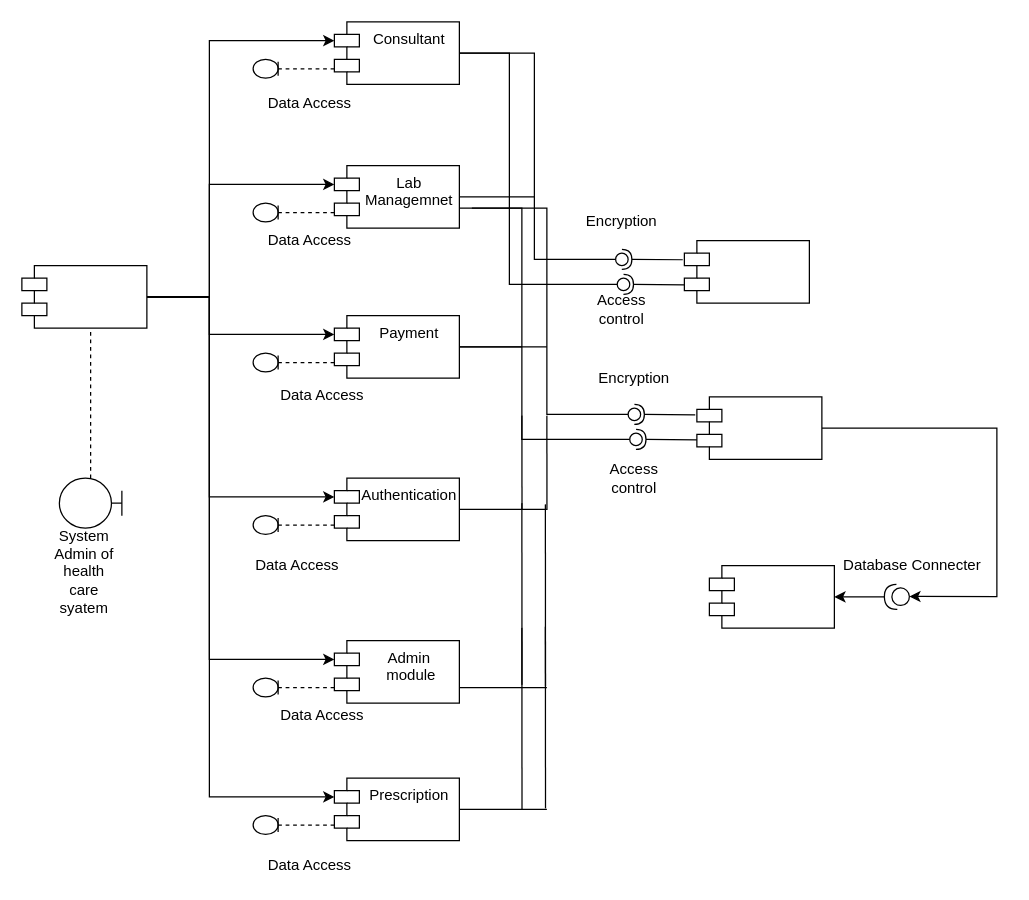
The diagram is 1029 pixels wide and 900 high, and some of its shapes have lost their labels. Each missing label, with the centre of its shape:
Automate Diagnosis& consultant: (84,296)
Database: (771,596)
Persistance: (759,427)
Security: (746,271)
